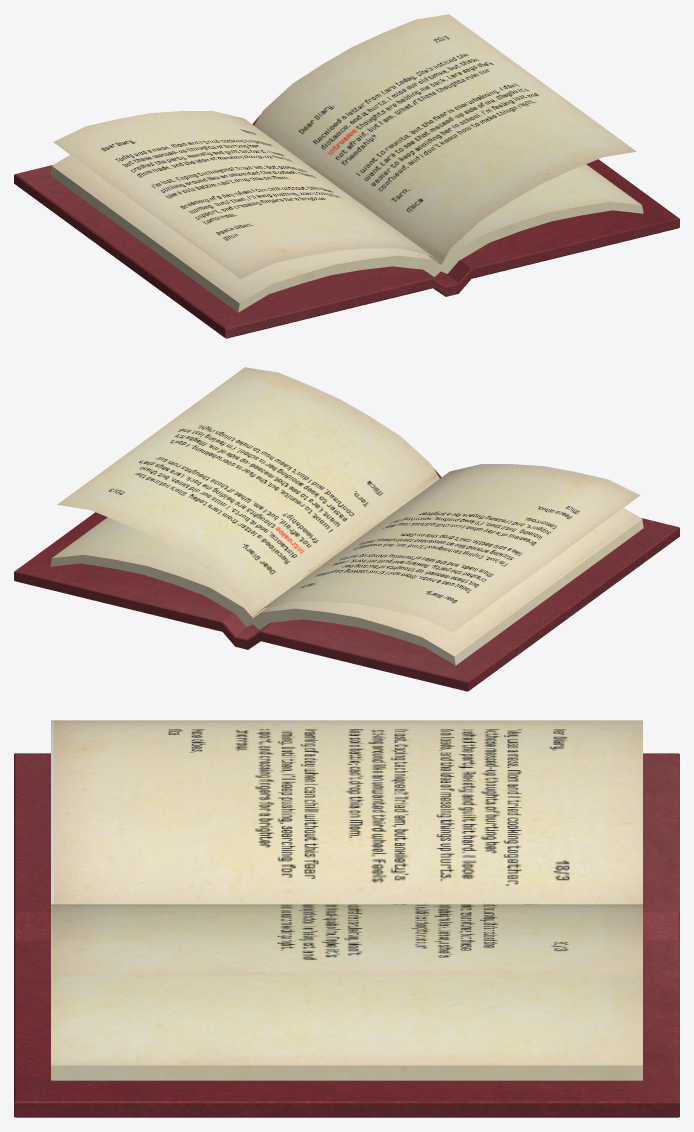
Rendered from diary.fbx.
3 renders of one model, top to bottom at view 1: azimuth 30°, elevation 25°; view 2: azimuth 150°, elevation 25°; view 3: azimuth 270°, elevation 25°, orthographic. The views are drawn at different scales.
Parts seen in each view (by area): view 1: bookOpen; view 2: bookOpen; view 3: bookOpen.
Boxes of the visible parts, x1,y1,x2,y2 form: bookOpen: (14,14,679,338); bookOpen: (14,367,679,691); bookOpen: (14,720,679,1117).
Bounding box in the file's own units: 40.69 × 7.73 × 32.8.
Materials: 2 (2 with a texture image).
